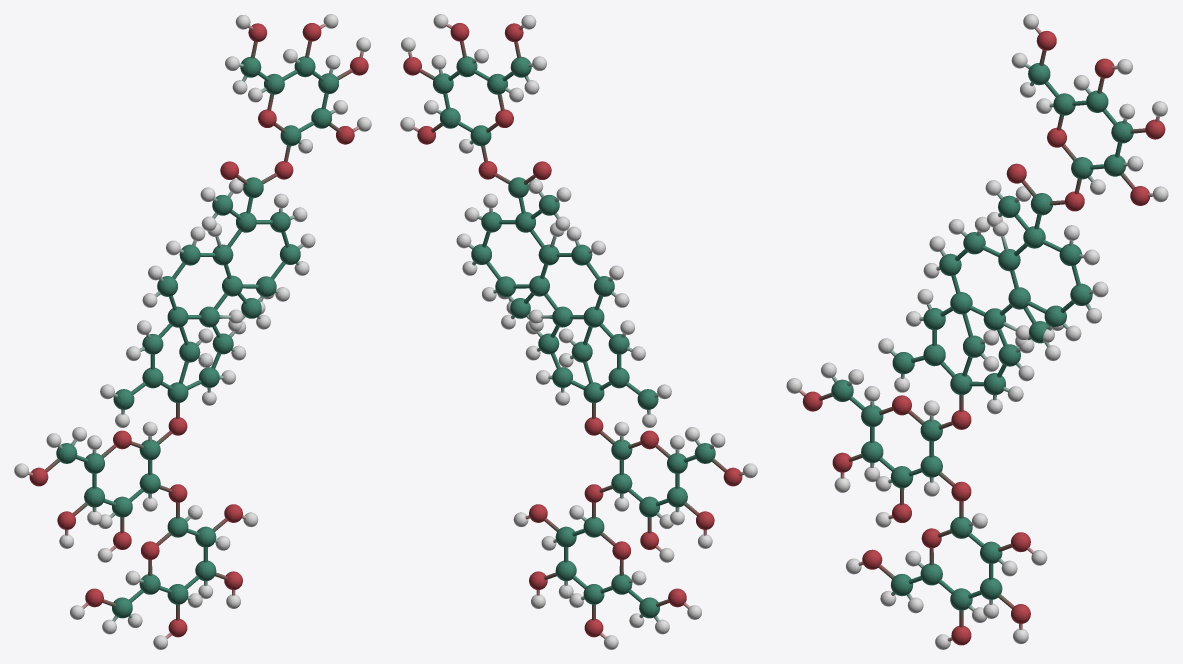
The model's file is Stevioside.fbx.
The picture shows the model from 3 angles, left to right: view 1: azimuth 30°, elevation 25°; view 2: azimuth 150°, elevation 25°; view 3: azimuth 330°, elevation 25°; orthographic projection. The views are drawn at different scales.
Visible parts, largest first — view 1: curMeshHyperballExportedMesh; view 2: curMeshHyperballExportedMesh; view 3: curMeshHyperballExportedMesh.
Boxes of the visible parts, left/top/right/bottom form: curMeshHyperballExportedMesh: left=14, top=14, right=371, bottom=649; curMeshHyperballExportedMesh: left=400, top=14, right=757, bottom=649; curMeshHyperballExportedMesh: left=786, top=14, right=1168, bottom=649.
Size of the model in its own units: 11.07 by 18.26 by 0.5667.
